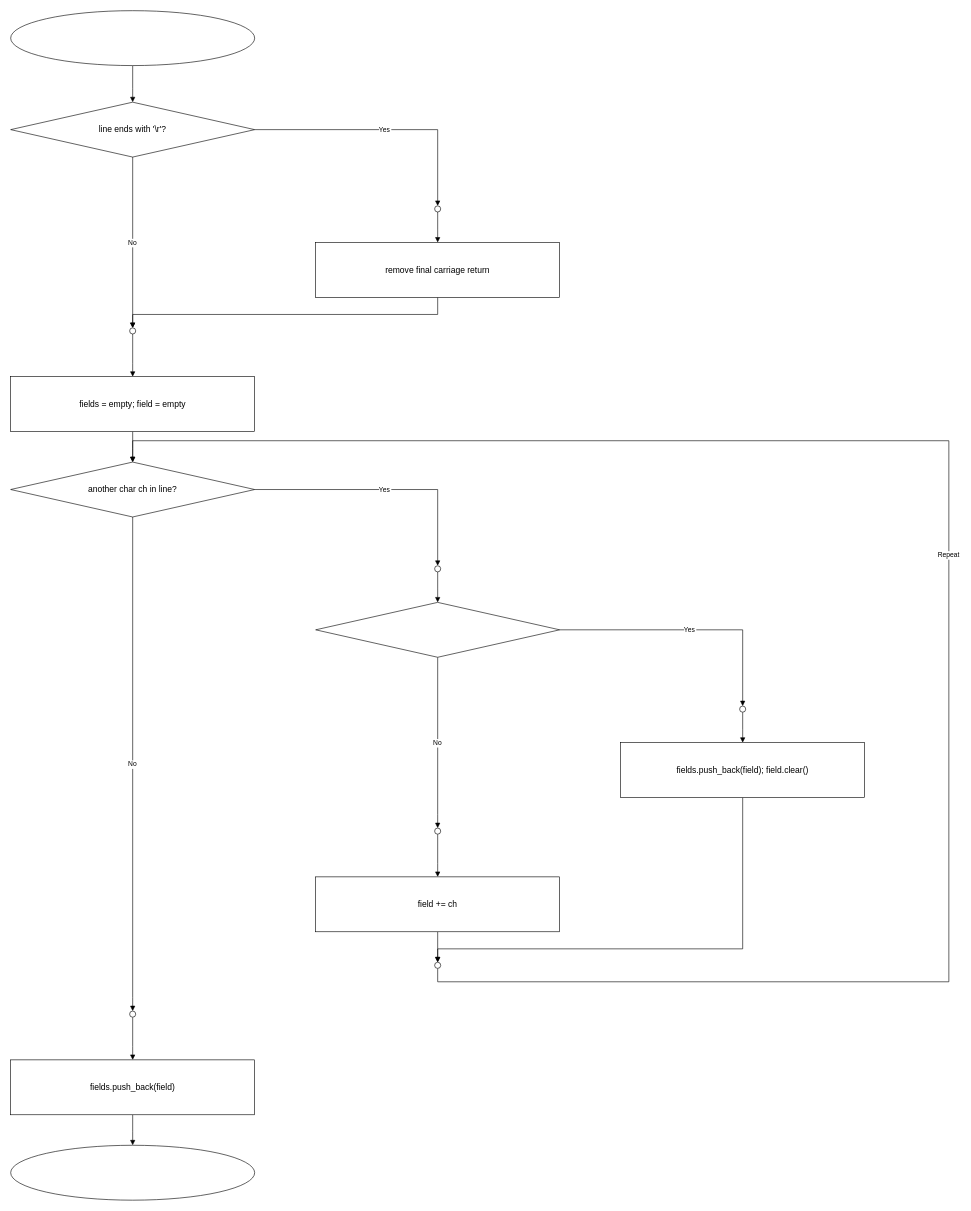
Image size: 971x1211. Some labels were removed from this diagram. Each missing label, with the box of its shape:
ch == ','?: (315, 602, 560, 657)
Return fields: (10, 1145, 255, 1200)
Start splitCsv(line): (10, 10, 255, 66)
